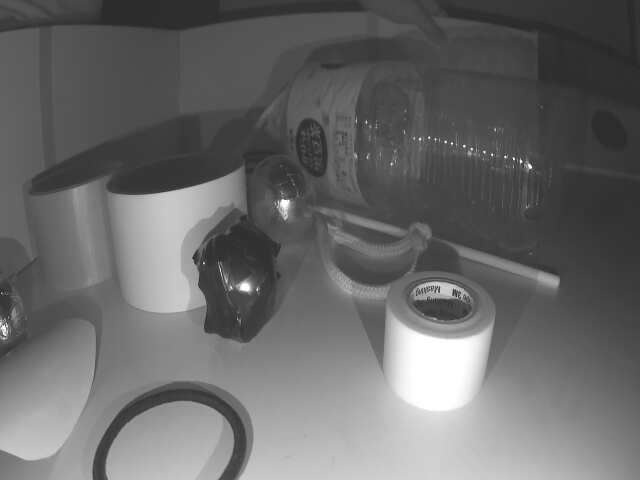Dead: (188, 217, 279, 337)
Live: (245, 154, 318, 236), (0, 270, 23, 361)
